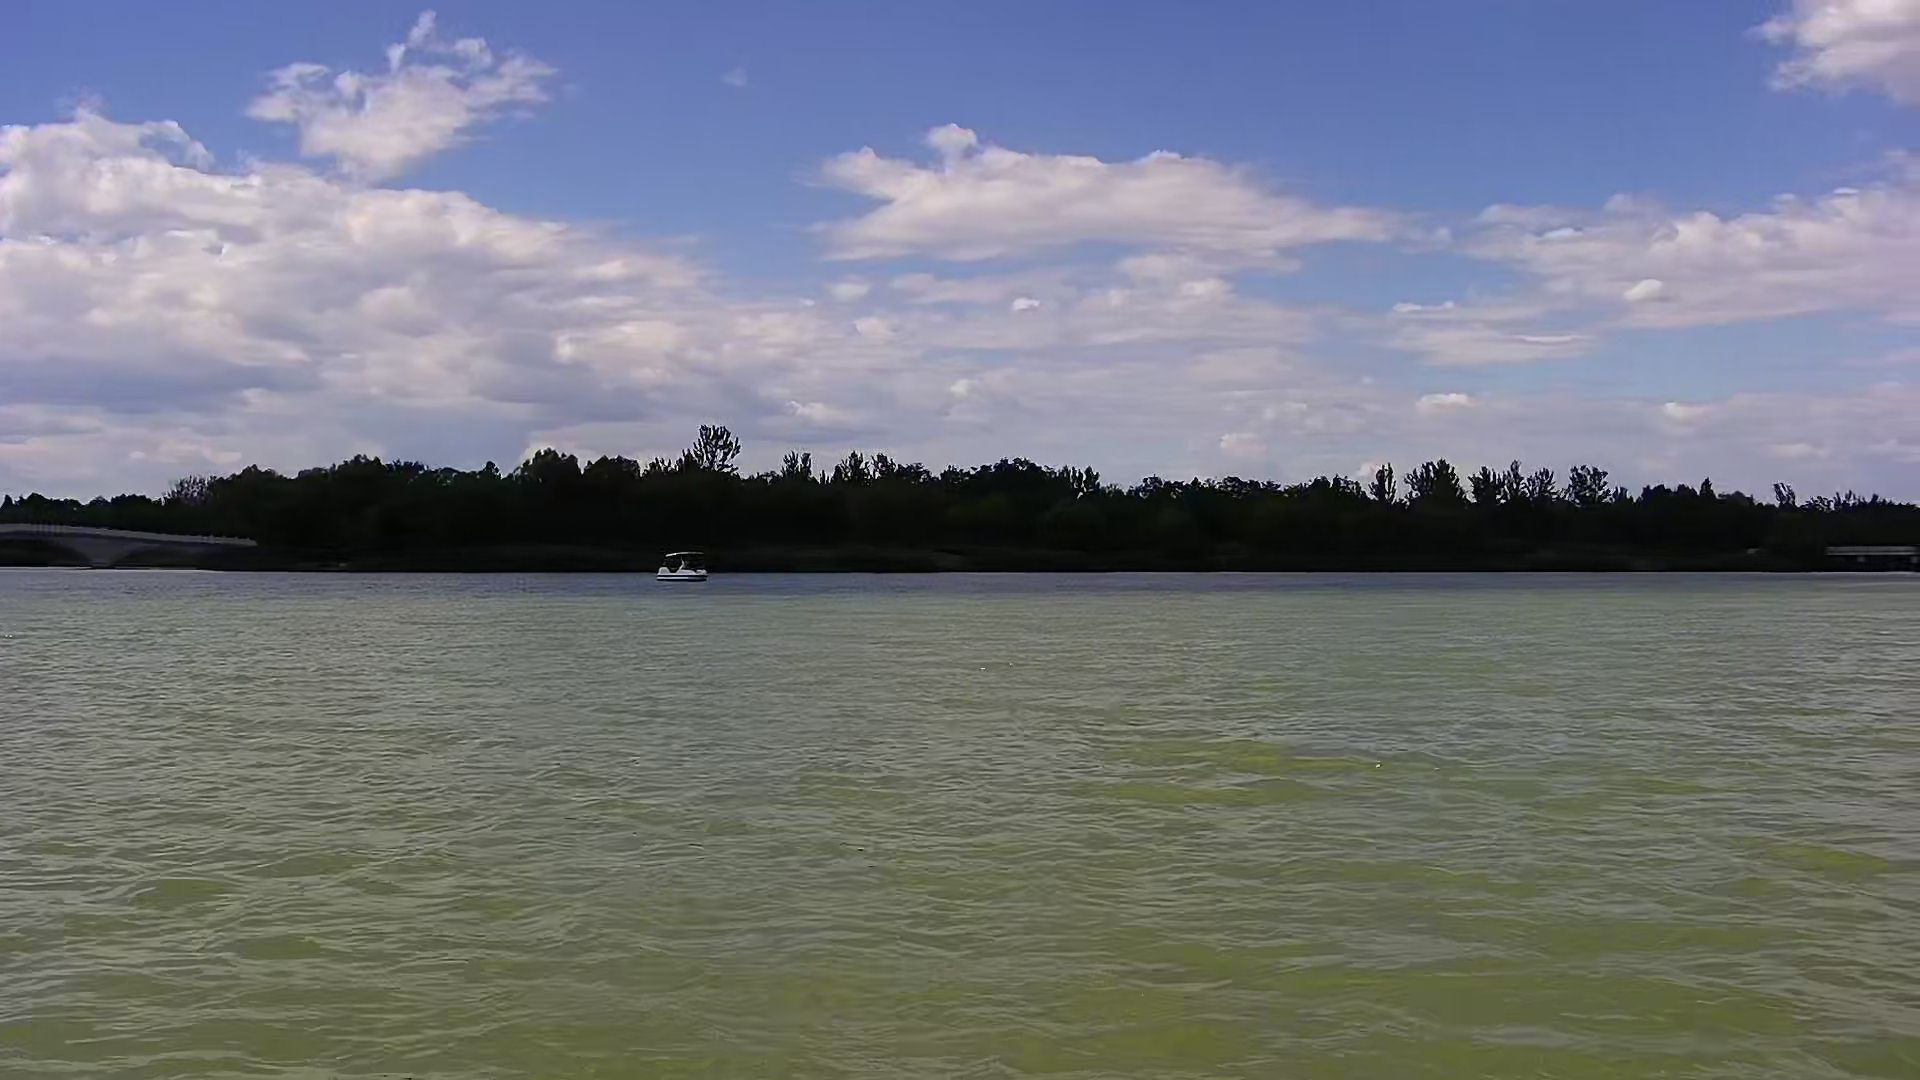boat: (651, 545, 720, 589)
bridge: (1, 518, 274, 578)
